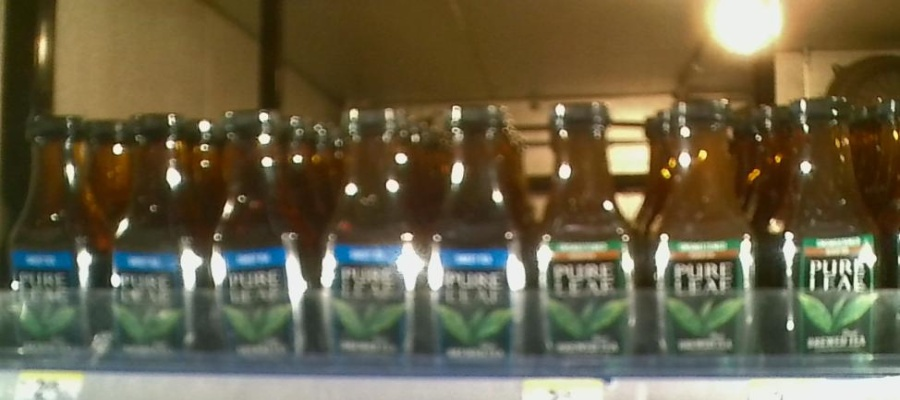bottle: (642, 86, 763, 383), (768, 85, 881, 379), (533, 90, 640, 382), (315, 95, 424, 375), (203, 97, 310, 378), (427, 96, 530, 375), (105, 104, 200, 370), (6, 116, 103, 357)
